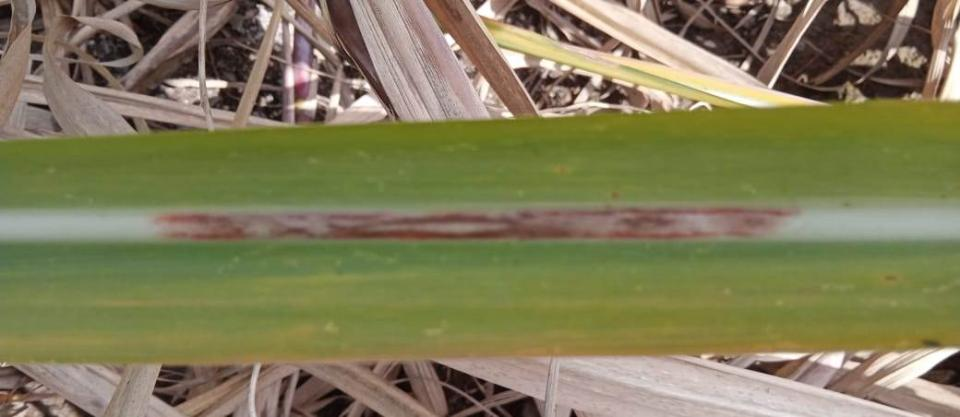RedRot: (145, 207, 807, 239)
